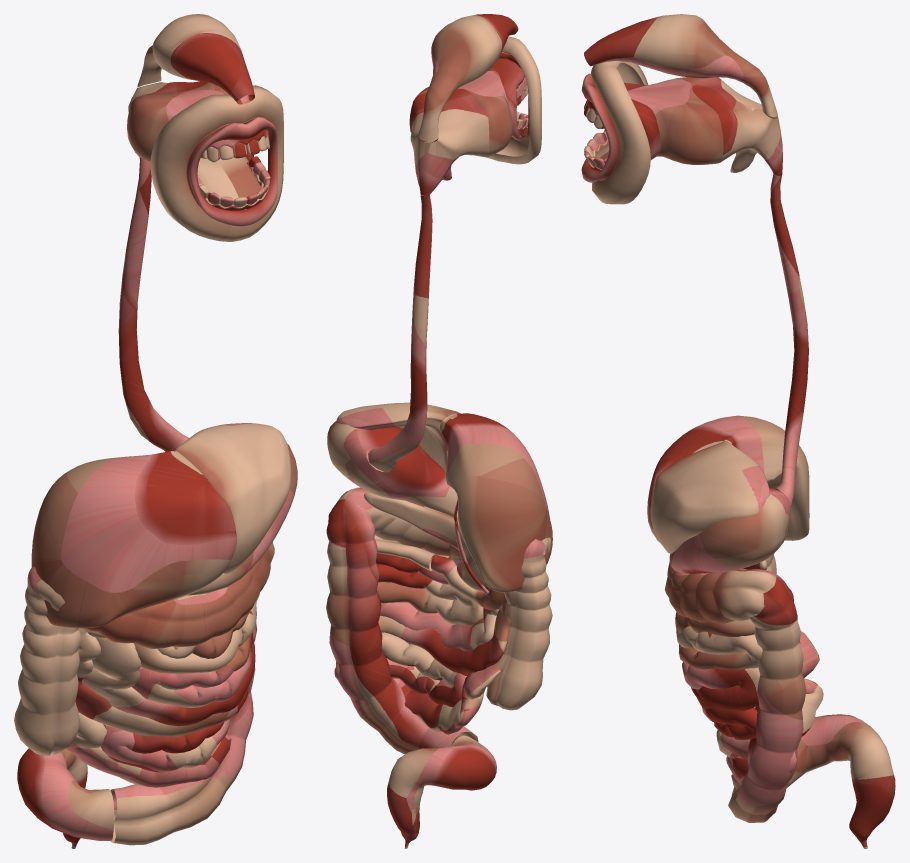
The model's file is Aparato_Digestivo.fbx.
3 renders of one model, left to right at view 1: azimuth 30°, elevation 25°; view 2: azimuth 150°, elevation 25°; view 3: azimuth 270°, elevation 25°, orthographic. The views are drawn at different scales.
Parts seen in each view (by area): view 1: Higado, Intestino_Delgado, Intestino_Grueso, Boca, Recto_Ano, Faringe, Esofago, Cavidad_Oral, Dientes, Estomago; view 2: Intestino_Grueso, Intestino_Delgado, Higado, Cavidad_Oral, Estomago, Recto_Ano, Faringe, Esofago, Boca, Pancreas, Duodeno, Dientes (+1 smaller); view 3: Intestino_Grueso, Higado, Cavidad_Oral, Intestino_Delgado, Faringe, Boca, Recto_Ano, Estomago, Esofago, Dientes.
Boxes of the visible parts, x1,y1,x2,y2 form: Higado: (31,423,291,628); Intestino_Delgado: (65,593,259,787); Intestino_Grueso: (14,542,274,845); Boca: (150,85,283,241); Recto_Ano: (17,748,114,848); Faringe: (137,14,254,104); Esofago: (118,157,189,451); Cavidad_Oral: (127,81,260,209); Dientes: (197,130,270,210); Estomago: (187,444,297,595); Intestino_Grueso: (326,487,552,754); Intestino_Delgado: (334,535,510,734); Higado: (336,402,552,592); Cavidad_Oral: (409,58,524,195); Estomago: (327,421,458,519); Recto_Ano: (387,735,496,848); Faringe: (418,14,518,142); Esofago: (368,194,432,472); Boca: (486,36,541,164); Pancreas: (364,492,490,591); Duodeno: (431,554,504,610); Dientes: (516,76,528,137); Intestino_Grueso: (664,553,806,822); Higado: (647,415,809,553); Cavidad_Oral: (595,77,782,175); Intestino_Delgado: (675,612,823,782); Faringe: (584,14,777,117); Boca: (581,61,650,204); Recto_Ano: (786,714,895,848); Estomago: (669,487,790,573); Esofago: (770,173,808,506); Dientes: (584,82,627,170).
Bounding box in the file's own units: 2.4 × 7.83 × 2.65.
Materials: 13 (13 with a texture image).
